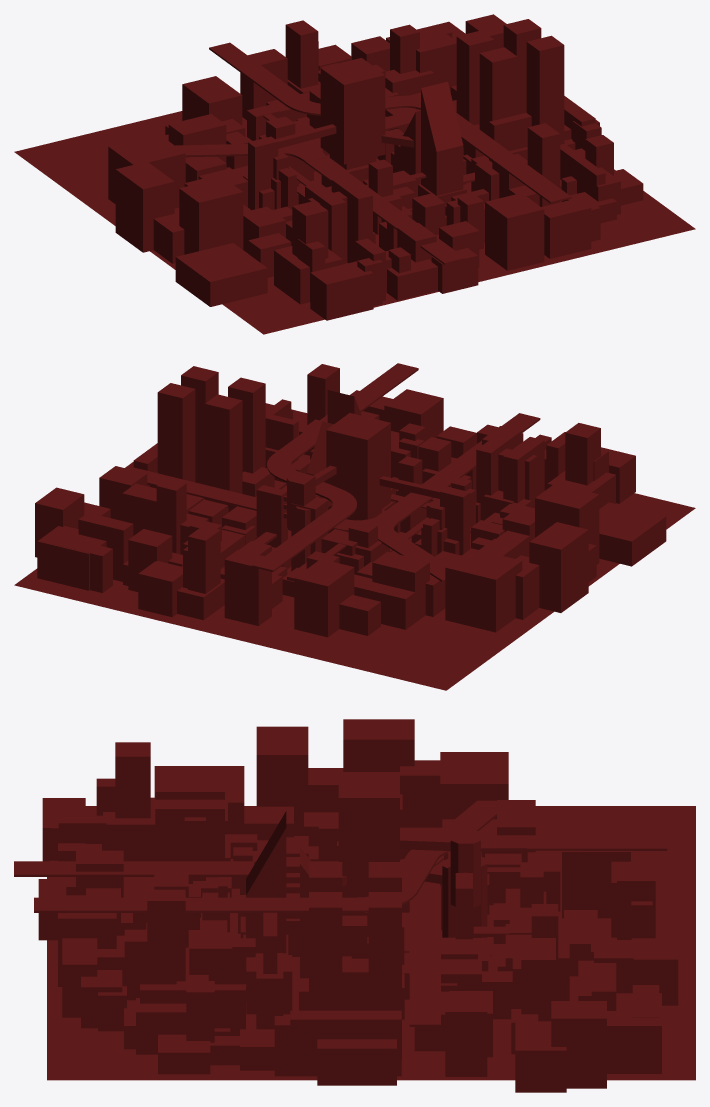
File: M_BlockOut.FBX
The picture shows the model from 3 angles, top to bottom: view 1: azimuth 30°, elevation 25°; view 2: azimuth 150°, elevation 25°; view 3: azimuth 270°, elevation 25°; orthographic projection. The views are drawn at different scales.
Visible parts, largest first — view 1: BlockOut; view 2: BlockOut; view 3: BlockOut.
Part boxes in pixels (bbox=[...]): BlockOut: bbox=[14, 14, 695, 334]; BlockOut: bbox=[14, 363, 695, 690]; BlockOut: bbox=[14, 719, 695, 1092].
Bounding box in the file's own units: 55270 × 16517 × 54203.
